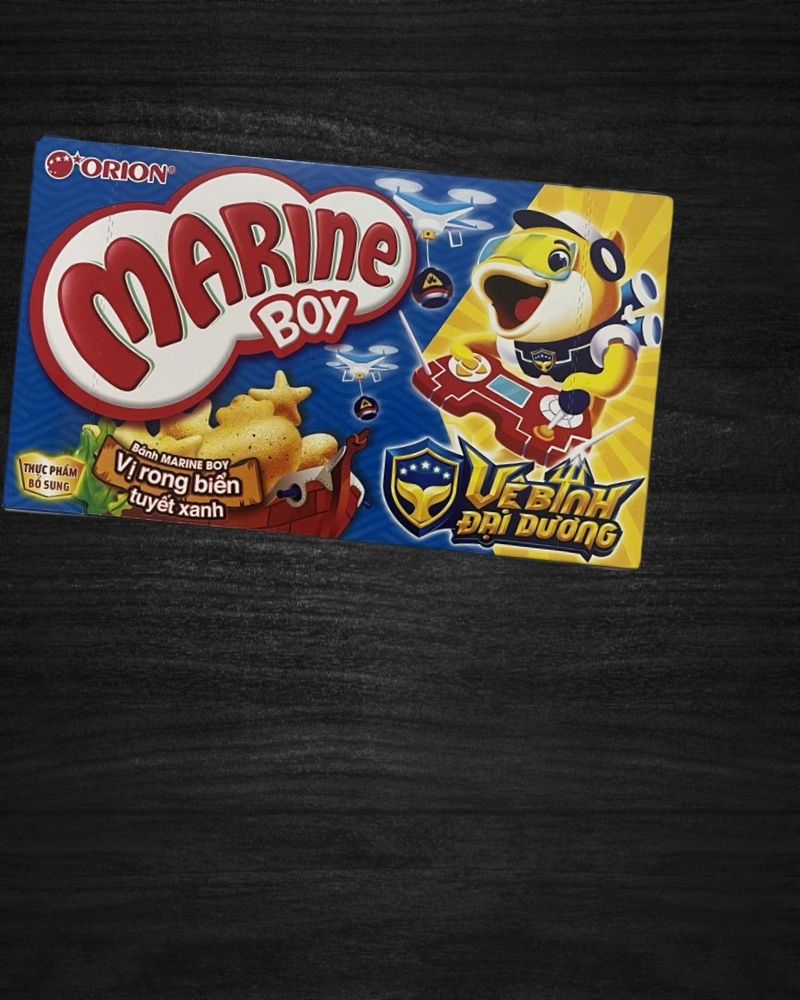Marine: (3, 135, 677, 572)
